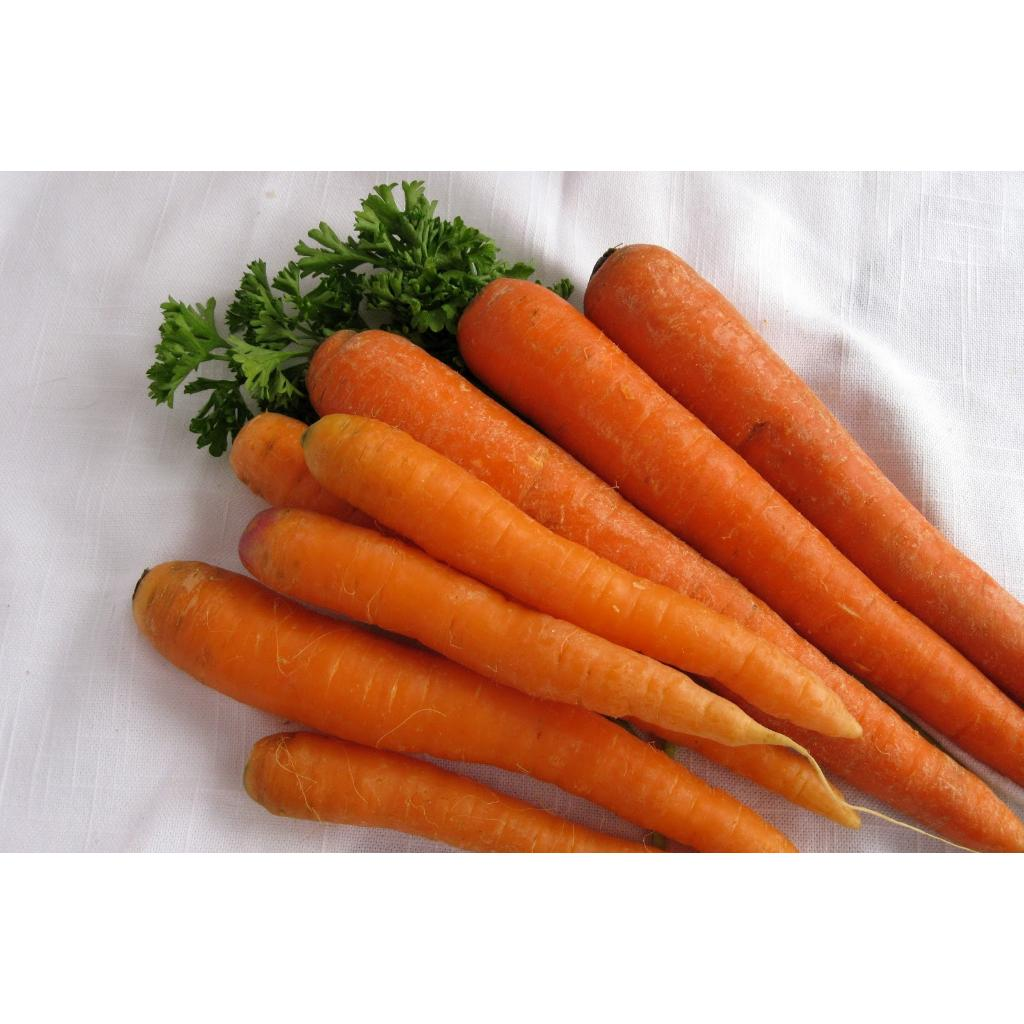carrot: (308, 331, 1024, 849), (458, 279, 1024, 773), (584, 244, 1023, 705), (132, 561, 793, 851), (301, 414, 860, 737), (240, 509, 780, 745), (239, 508, 612, 680), (243, 732, 654, 852), (229, 412, 380, 529), (693, 741, 858, 826)
